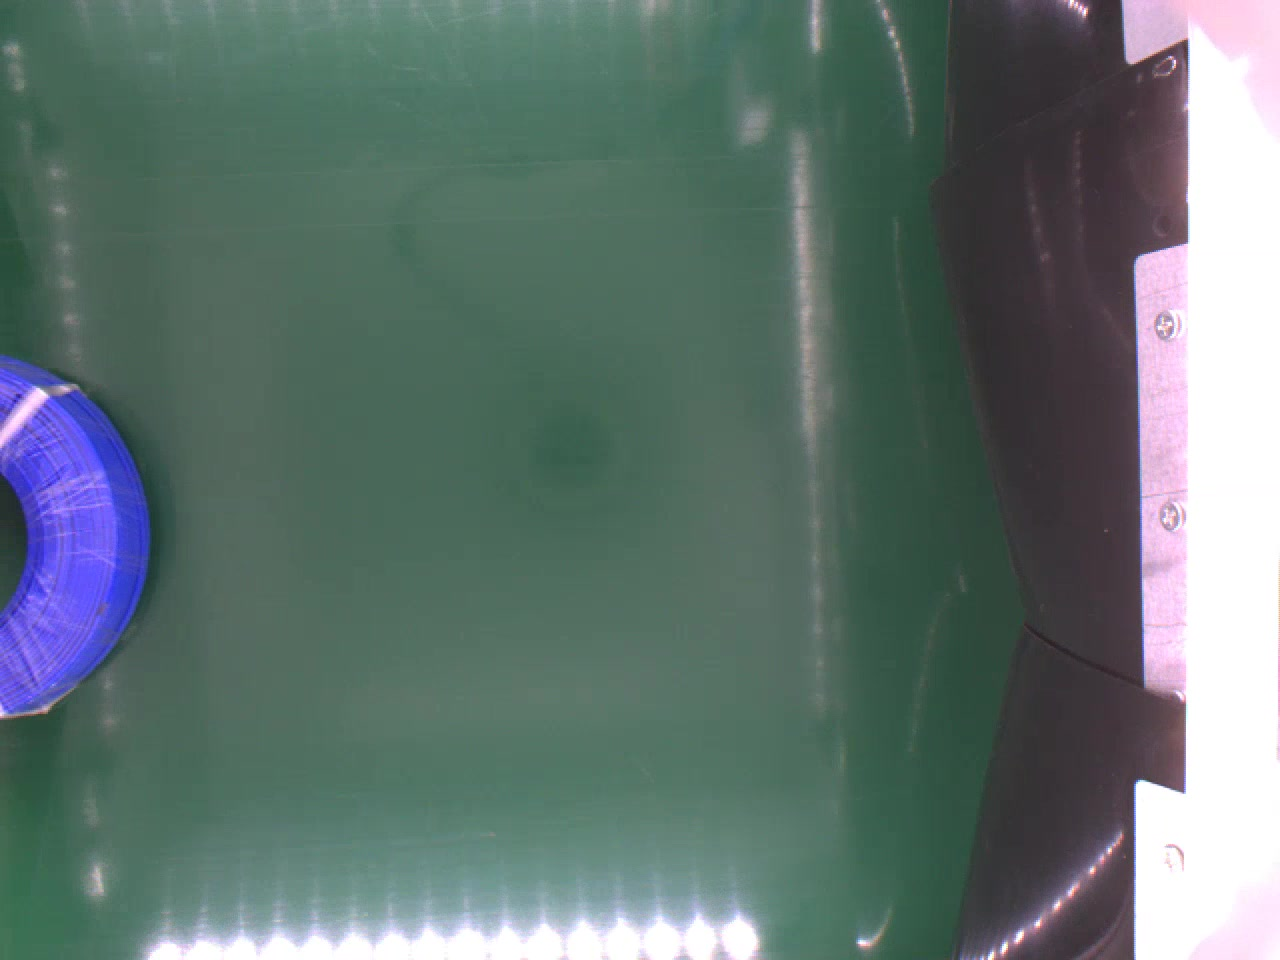blue: (0, 357, 152, 716)
